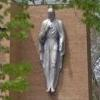Statue: (32, 3, 69, 92)
